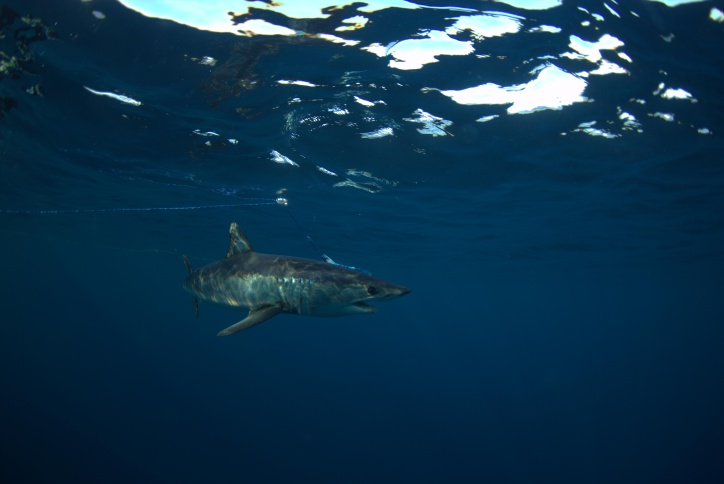Mako: (166, 220, 419, 340)
